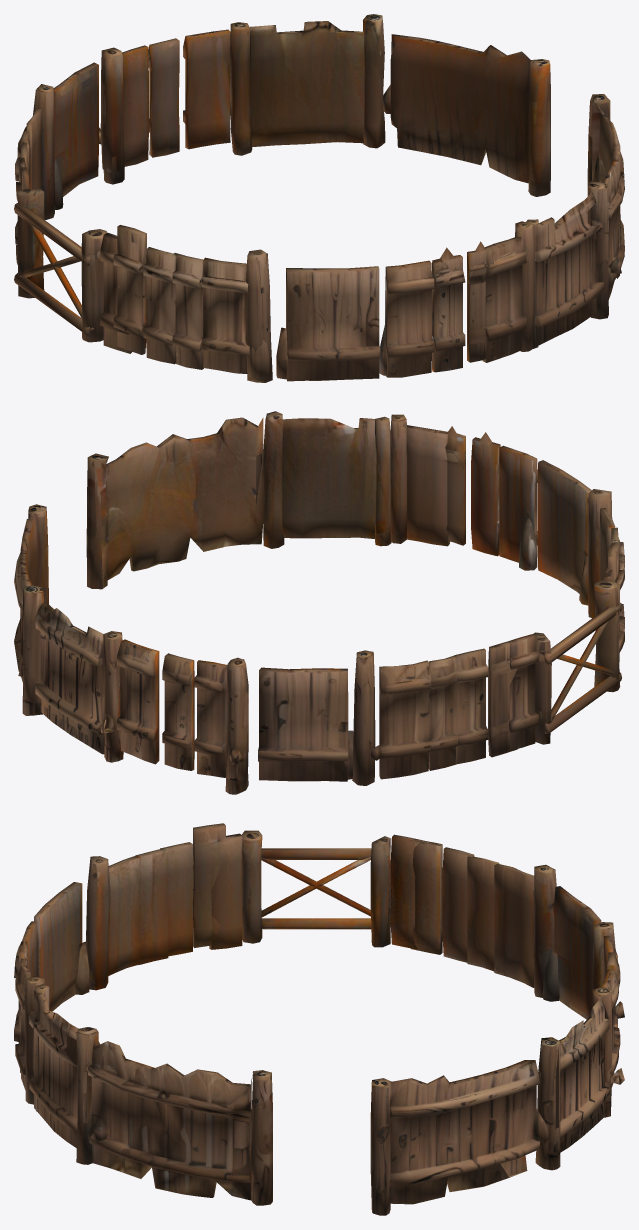
Rendered from zhalan.fbx.
The picture shows the model from 3 angles, top to bottom: view 1: azimuth 30°, elevation 25°; view 2: azimuth 150°, elevation 25°; view 3: azimuth 270°, elevation 25°; orthographic projection.
Visible parts, largest first — view 1: tripo_node_14584934; view 2: tripo_node_14584934; view 3: tripo_node_14584934.
Boxes of the visible parts, x1,y1,x2,y2 form: tripo_node_14584934: [14, 14, 624, 382]; tripo_node_14584934: [14, 411, 624, 794]; tripo_node_14584934: [14, 823, 624, 1215].
Size of the model in its own units: 1458 by 387 by 1467.
Materials: 1 (1 with a texture image).
